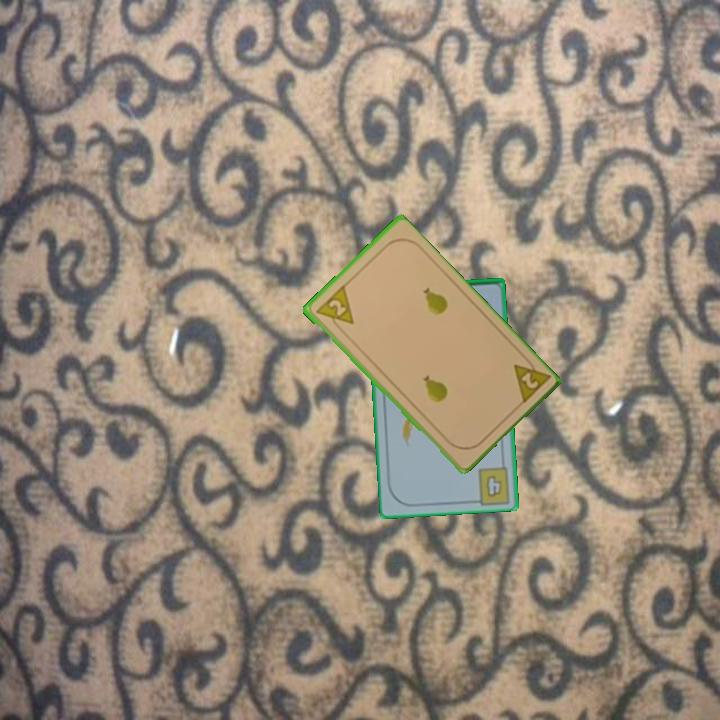2p: (509, 351, 552, 408), (311, 283, 356, 335)
4b: (483, 472, 505, 500)
